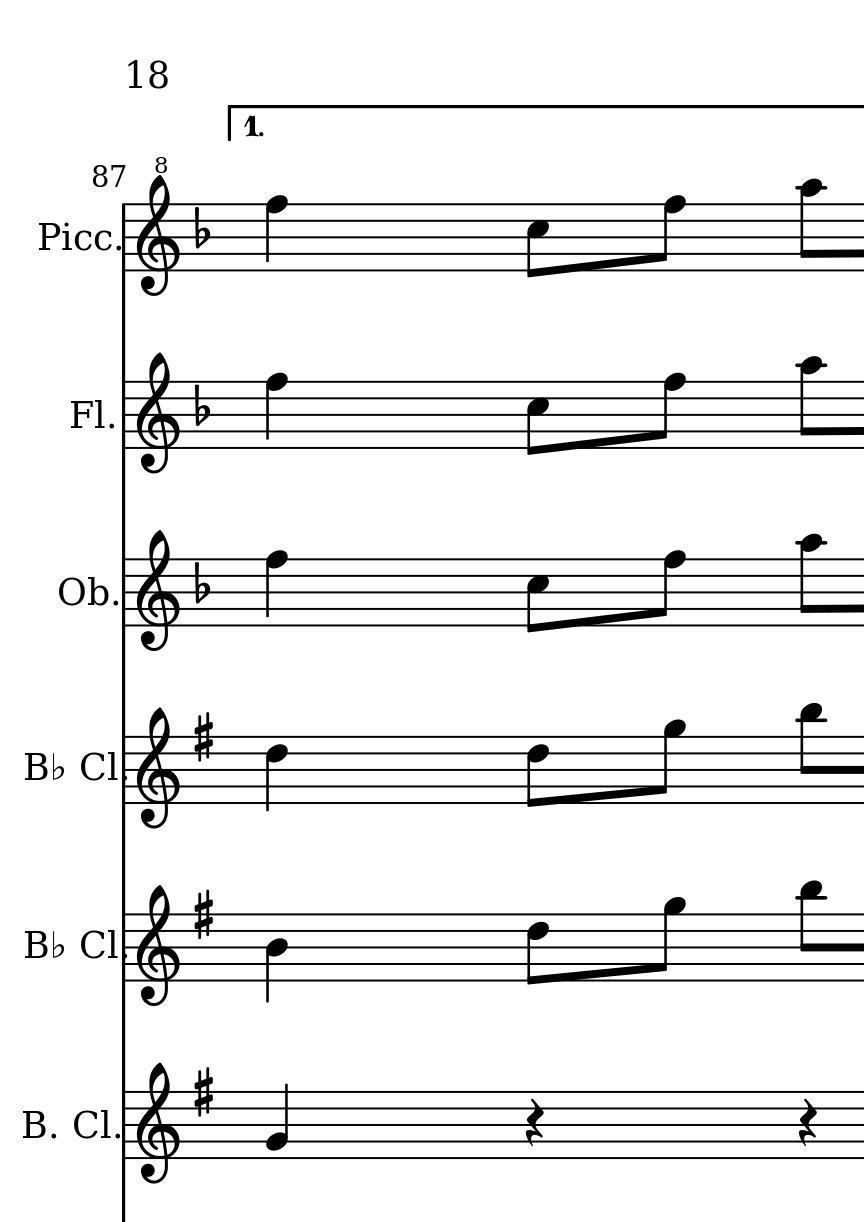1: (127, 57, 143, 91)
4_2: (265, 1081, 292, 1162)
4_4: (263, 912, 292, 1003)
4_6: (265, 733, 292, 813)
4_8: (264, 371, 290, 450), (263, 549, 289, 628), (264, 195, 289, 274)
7: (108, 163, 127, 188)
8: (148, 56, 170, 90), (90, 163, 108, 190)
8_11: (798, 880, 827, 983), (798, 701, 826, 805), (798, 355, 827, 450), (797, 532, 825, 628), (798, 178, 826, 271)
8_5: (525, 556, 551, 634), (525, 203, 550, 280), (526, 379, 550, 458)
8_6: (526, 734, 551, 809), (525, 912, 550, 986)
8_8: (650, 372, 688, 448), (652, 194, 687, 274), (652, 549, 686, 628)
8_9: (652, 717, 686, 805), (654, 897, 685, 982)
Cl: (70, 1103, 110, 1147), (77, 921, 115, 964), (79, 744, 115, 786)
Fl: (67, 396, 105, 434)
Flat: (190, 560, 213, 605), (191, 383, 212, 428), (194, 205, 212, 249)
Gclef: (132, 882, 182, 1010), (132, 530, 183, 651), (134, 707, 183, 828), (135, 1062, 182, 1185), (135, 349, 181, 474), (137, 174, 181, 298)
Ob: (58, 571, 108, 614)
Picc: (35, 218, 114, 254)
Prima_volta: (223, 102, 864, 145)
Rests4: (523, 1097, 548, 1149), (798, 1097, 821, 1147)
Sharp: (192, 1067, 217, 1116), (192, 891, 217, 939), (193, 712, 215, 763)
Single_barline: (117, 735, 136, 808), (115, 206, 134, 274), (115, 1091, 132, 1160), (116, 382, 133, 451), (117, 914, 134, 983), (118, 555, 133, 627)
